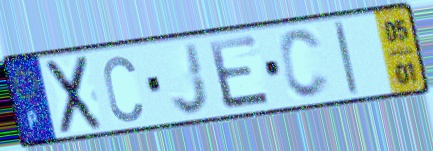C: (277, 26, 333, 102), (100, 52, 145, 125)
E: (205, 32, 274, 113)
I: (330, 17, 362, 99)
J: (169, 40, 213, 117)
X: (44, 52, 105, 138)
